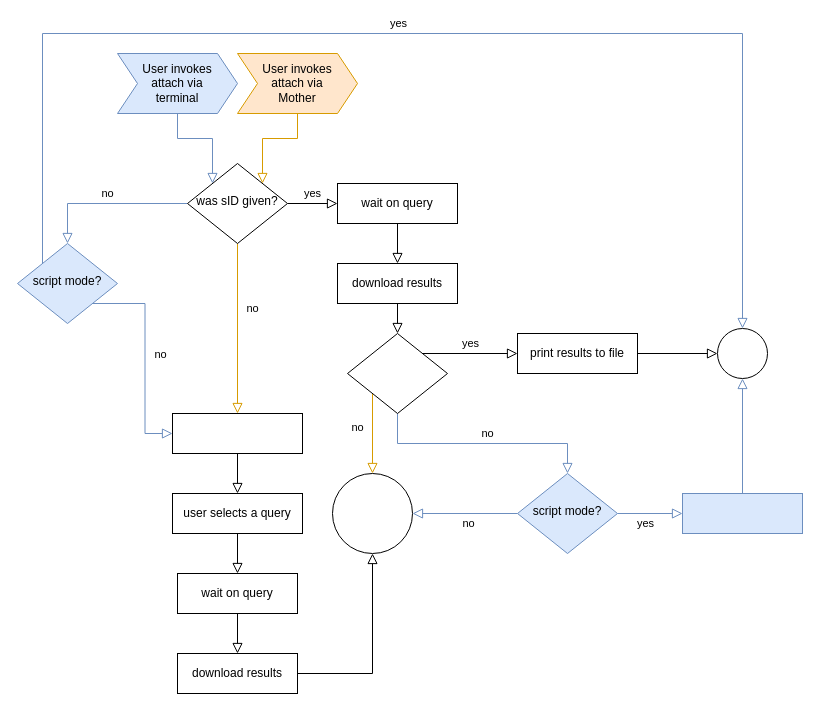
Image size: 820x711. Some labels were removed from this diagram. The box of each missing label's shape, as (x1, y1, x2, y2) in pixels:
display interactive list of all attachable queries: (172, 412, 302, 454)
exit: (716, 328, 768, 378)
output to file?: (346, 332, 448, 414)
pass results to datascope: (332, 472, 412, 554)
print results to stdout: (682, 492, 802, 534)
